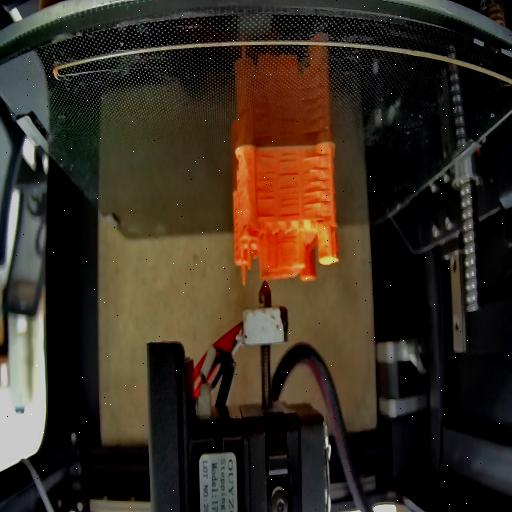cracks: (304, 154, 330, 208), (255, 156, 275, 204), (280, 182, 300, 218), (278, 152, 298, 178), (257, 212, 277, 220), (314, 217, 326, 228)
